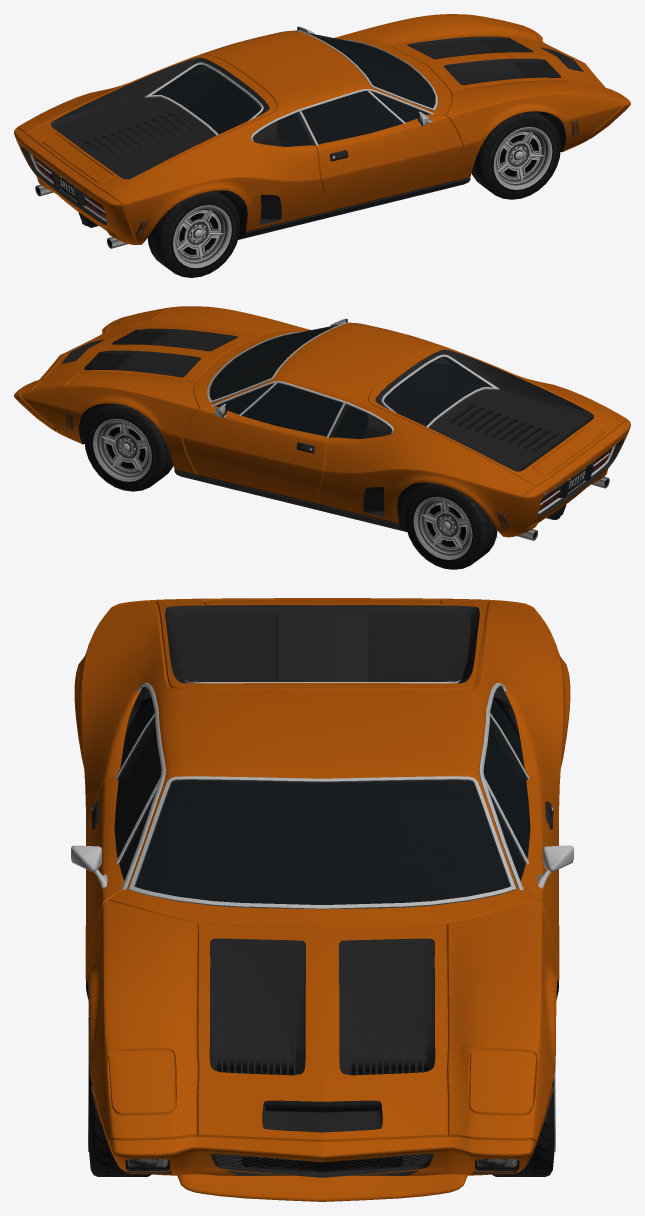
The model's file is apx_70_-_low_poly_model.glb.
3 views of the same model, one above another, from view 1: azimuth 30°, elevation 25°; view 2: azimuth 150°, elevation 25°; view 3: azimuth 270°, elevation 25° (orthographic). The views are drawn at different scales.
Parts seen in each view (by area): view 1: APX70_Body_APX70_Bodymat_0, APX70_Bottom_UCB_BOTTOM_LT_0, APX70_Interior_UCB_Interiors_2_0, APX70_WheelStock_RR_RB1c_Tire_1k_0, APX70_WheelStock_FR_RB1c_Tire_1k_0, APX70_Hood_Inner_UCB_BOTTOM_LT_0, APX70_Glass_Rear_UCB_Lights_and_Glass_Transperent_0, APX70_Glass_Passenger_UCB_Lights_and_Glass_Transperent_0, APX70_Hood_APX70_Bodymat_0, APX70_Windshield_UCB_Lights_and_Glass_Transperent_0, APX70_Bumper_Rear_APX70_Bodymat_0, APX70_Bumper_Rear_Inner_UCB_BOTTOM_LT_0 (+3 smaller); view 2: APX70_Body_APX70_Bodymat_0, APX70_Bottom_UCB_BOTTOM_LT_0, APX70_Interior_UCB_Interiors_2_0, APX70_WheelStock_RL_RB1c_Tire_1k_0, APX70_WheelStock_FL_RB1c_Tire_1k_0, APX70_Hood_Inner_UCB_BOTTOM_LT_0, APX70_Glass_Rear_UCB_Lights_and_Glass_Transperent_0, APX70_Glass_Driver_UCB_Lights_and_Glass_Transperent_0, APX70_Hood_APX70_Bodymat_0, APX70_Windshield_UCB_Lights_and_Glass_Transperent_0, APX70_Bumper_Rear_APX70_Bodymat_0, APX70_Bumper_Rear_Inner_UCB_BOTTOM_LT_0 (+3 smaller); view 3: APX70_Body_APX70_Bodymat_0, APX70_Interior_UCB_Interiors_2_0, APX70_Windshield_UCB_Lights_and_Glass_Transperent_0, APX70_Bottom_UCB_BOTTOM_LT_0, APX70_Hood_Inner_UCB_BOTTOM_LT_0, APX70_Hood_APX70_Bodymat_0, APX70_Bumper_Front_APX70_Bodymat_0, APX70_Headlights_Covers_APX70_Bodymat_0, APX70_Bumper_Front_Inner_UCB_BOTTOM_LT_0, APX70_Glass_Driver_UCB_Lights_and_Glass_Transperent_0, APX70_Glass_Passenger_UCB_Lights_and_Glass_Transperent_0, APX70_WheelStock_FR_RB1c_Tire_1k_0 (+2 smaller).
Boxes of the visible parts, <box> form: APX70_Body_APX70_Bodymat_0: <box>17,14,624,244</box>; APX70_Bottom_UCB_BOTTOM_LT_0: <box>35,26,578,248</box>; APX70_Interior_UCB_Interiors_2_0: <box>154,39,433,146</box>; APX70_WheelStock_RR_RB1c_Tire_1k_0: <box>147,190,240,277</box>; APX70_WheelStock_FR_RB1c_Tire_1k_0: <box>471,111,560,199</box>; APX70_Hood_Inner_UCB_BOTTOM_LT_0: <box>407,36,583,85</box>; APX70_Glass_Rear_UCB_Lights_and_Glass_Transperent_0: <box>152,64,260,134</box>; APX70_Glass_Passenger_UCB_Lights_and_Glass_Transperent_0: <box>302,91,428,143</box>; APX70_Hood_APX70_Bodymat_0: <box>389,34,599,91</box>; APX70_Windshield_UCB_Lights_and_Glass_Transperent_0: <box>305,32,434,108</box>; APX70_Bumper_Rear_APX70_Bodymat_0: <box>14,127,138,244</box>; APX70_Bumper_Rear_Inner_UCB_BOTTOM_LT_0: <box>21,147,106,225</box>; APX70_Body_APX70_Bodymat_0: <box>20,306,627,536</box>; APX70_Bottom_UCB_BOTTOM_LT_0: <box>66,318,609,540</box>; APX70_Interior_UCB_Interiors_2_0: <box>211,331,490,438</box>; APX70_WheelStock_RL_RB1c_Tire_1k_0: <box>405,482,497,569</box>; APX70_WheelStock_FL_RB1c_Tire_1k_0: <box>84,403,173,491</box>; APX70_Hood_Inner_UCB_BOTTOM_LT_0: <box>61,328,237,377</box>; APX70_Glass_Rear_UCB_Lights_and_Glass_Transperent_0: <box>384,356,491,426</box>; APX70_Glass_Driver_UCB_Lights_and_Glass_Transperent_0: <box>216,383,342,436</box>; APX70_Hood_APX70_Bodymat_0: <box>45,326,256,383</box>; APX70_Windshield_UCB_Lights_and_Glass_Transperent_0: <box>210,324,340,400</box>; APX70_Bumper_Rear_APX70_Bodymat_0: <box>506,420,630,537</box>; APX70_Bumper_Rear_Inner_UCB_BOTTOM_LT_0: <box>538,439,623,517</box>; APX70_Body_APX70_Bodymat_0: <box>74,599,570,1201</box>; APX70_Interior_UCB_Interiors_2_0: <box>115,699,529,904</box>; APX70_Windshield_UCB_Lights_and_Glass_Transperent_0: <box>135,780,509,904</box>; APX70_Bottom_UCB_BOTTOM_LT_0: <box>71,605,573,1125</box>; APX70_Hood_Inner_UCB_BOTTOM_LT_0: <box>209,938,435,1132</box>; APX70_Hood_APX70_Bodymat_0: <box>197,923,447,1141</box>; APX70_Bumper_Front_APX70_Bodymat_0: <box>109,1136,535,1176</box>; APX70_Headlights_Covers_APX70_Bodymat_0: <box>108,1050,536,1115</box>; APX70_Bumper_Front_Inner_UCB_BOTTOM_LT_0: <box>125,1153,519,1177</box>; APX70_Glass_Driver_UCB_Lights_and_Glass_Transperent_0: <box>483,717,530,880</box>; APX70_Glass_Passenger_UCB_Lights_and_Glass_Transperent_0: <box>114,717,161,880</box>; APX70_WheelStock_FR_RB1c_Tire_1k_0: <box>88,1017,151,1176</box>.
Bounding box in the file's own units: 4.46 × 1.11 × 1.85.
Materials: 8 (7 with a texture image).
